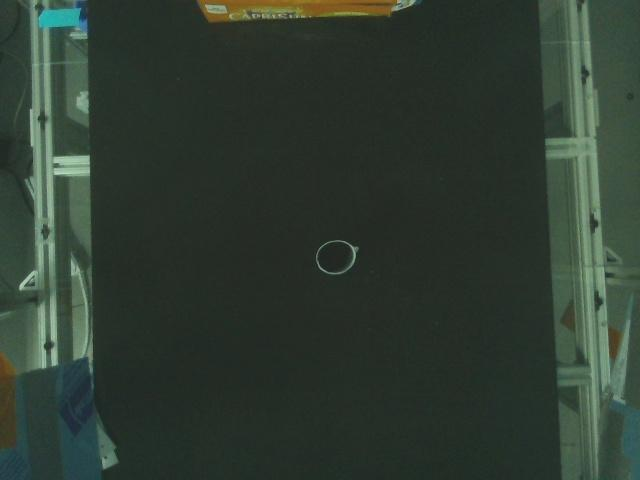cardboard: (192, 0, 427, 27), (311, 237, 362, 280)
